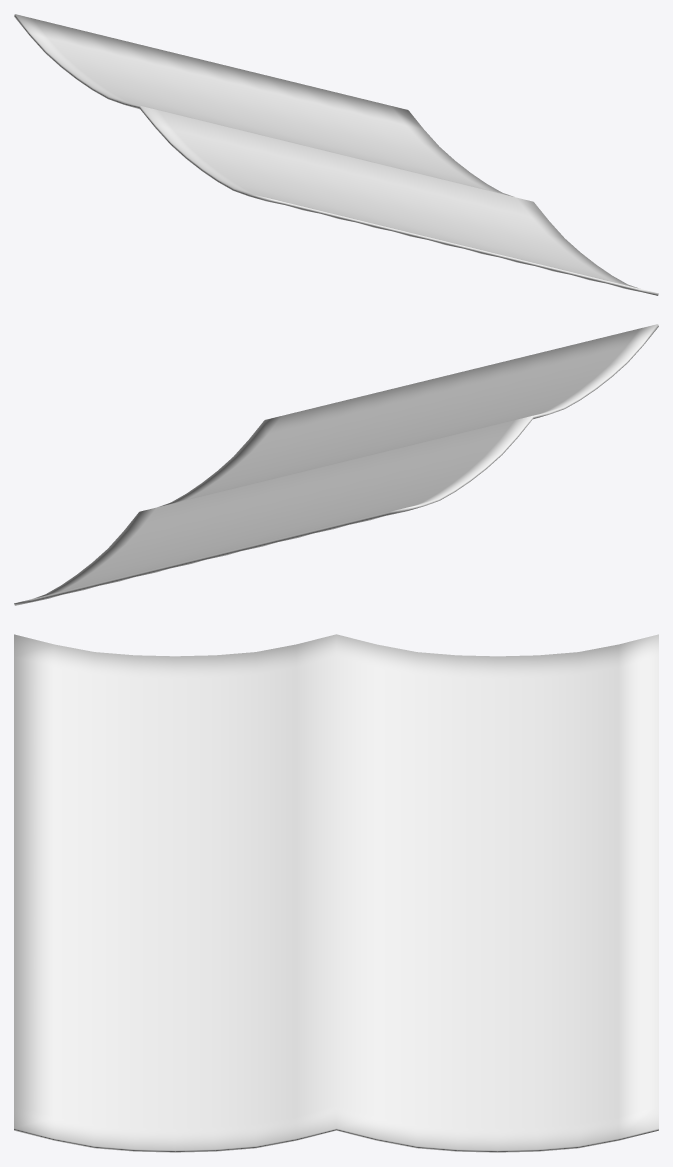
File: Roofplane.fbx
3 renders of one model, top to bottom at view 1: azimuth 30°, elevation 25°; view 2: azimuth 150°, elevation 25°; view 3: azimuth 270°, elevation 25°, orthographic. The views are drawn at different scales.
Visible parts, largest first — view 1: Roofplane; view 2: Roofplane; view 3: Roofplane.
Part boxes in pixels (<box>): Roofplane: <box>14,14,658,295</box>; Roofplane: <box>14,324,658,605</box>; Roofplane: <box>14,634,658,1152</box>.
Size of the model in its own units: 1090 by 558 by 1200.
1 material, 1 textured.
